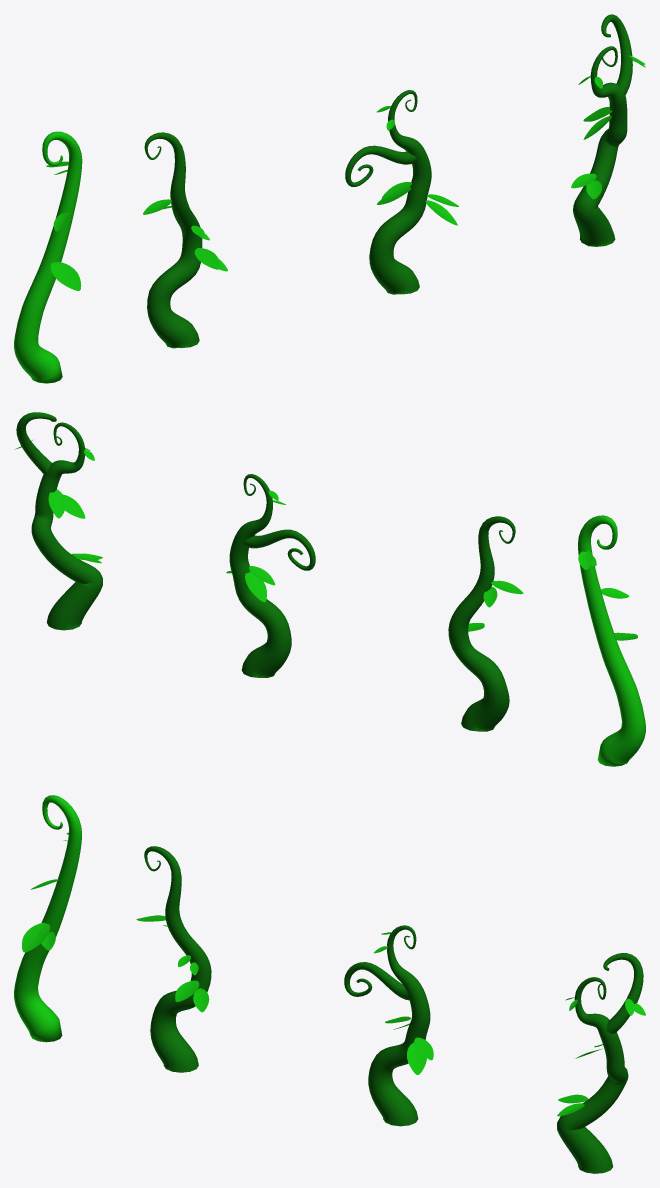
Rendered from Trees.fbx.
The picture shows the model from 3 angles, top to bottom: view 1: azimuth 30°, elevation 25°; view 2: azimuth 150°, elevation 25°; view 3: azimuth 330°, elevation 25°; orthographic projection.
Visible parts, largest first — view 1: Fourth, FIRST, Third, Second; view 2: Third, Fourth, FIRST, Second; view 3: Third, Fourth, FIRST, Second.
Boxes of the visible parts, x1=… form: Fourth: x1=345, y1=90, x2=458, y2=294; FIRST: x1=14, y1=131, x2=82, y2=383; Third: x1=571, y1=14, x2=645, y2=246; Second: x1=143, y1=132, x2=227, y2=348; Third: x1=14, y1=412, x2=102, y2=630; Fourth: x1=226, y1=474, x2=315, y2=677; FIRST: x1=578, y1=515, x2=645, y2=766; Second: x1=448, y1=516, x2=523, y2=731; Third: x1=557, y1=953, x2=645, y2=1173; Fourth: x1=344, y1=925, x2=433, y2=1126; FIRST: x1=14, y1=795, x2=81, y2=1042; Second: x1=136, y1=846, x2=211, y2=1072.
Bounding box in the file's own units: 1780 × 654 × 203.
